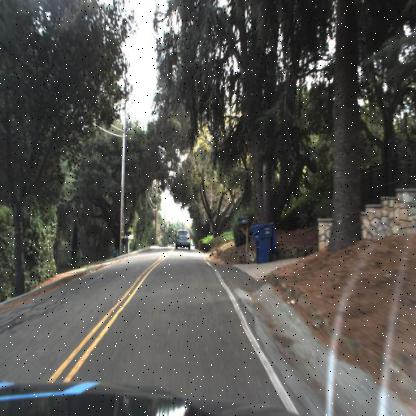car: (173, 224, 193, 254)
